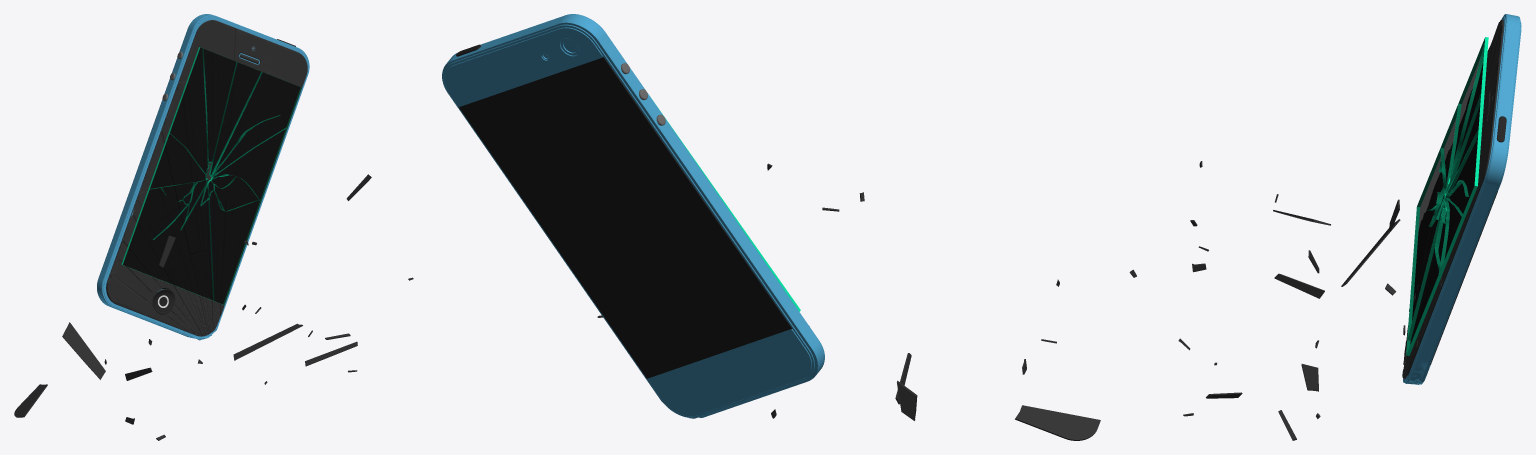
File: phone.fbx
3 views of the same model, side by side, from view 1: azimuth 30°, elevation 25°; view 2: azimuth 150°, elevation 25°; view 3: azimuth 270°, elevation 25° (orthographic). The views are drawn at different scales.
Visible parts, largest first — view 1: disssssssss, Cube, Curve.013, Curve.052, Cube.002, Curve.010, Cube.008, Cube.000; view 2: Plane.003, Curve.012, Curve.013, Curve.014, Cube.000; view 3: Cube, disssssssss, Curve.013, Curve.052, Curve.014, Cube.004.
Part boxes in pixels (<box>): disssssssss: <box>106,20,307,336</box>; Cube: <box>121,47,301,304</box>; Curve.013: <box>97,14,309,340</box>; Curve.052: <box>103,17,308,339</box>; Cube.002: <box>62,322,105,379</box>; Curve.010: <box>152,289,173,314</box>; Cube.008: <box>233,323,302,360</box>; Cube.000: <box>14,384,47,417</box>; Plane.003: <box>459,56,792,378</box>; Curve.012: <box>444,27,811,416</box>; Curve.013: <box>442,14,824,418</box>; Curve.014: <box>443,24,814,417</box>; Cube.000: <box>1015,405,1100,440</box>; Cube: <box>1406,37,1488,355</box>; disssssssss: <box>1402,19,1503,378</box>; Curve.013: <box>1405,14,1520,384</box>; Curve.052: <box>1403,16,1505,382</box>; Curve.014: <box>1420,20,1520,384</box>; Cube.004: <box>1274,273,1324,298</box>.
Bounding box in the file's own units: 190 × 142 × 129.
